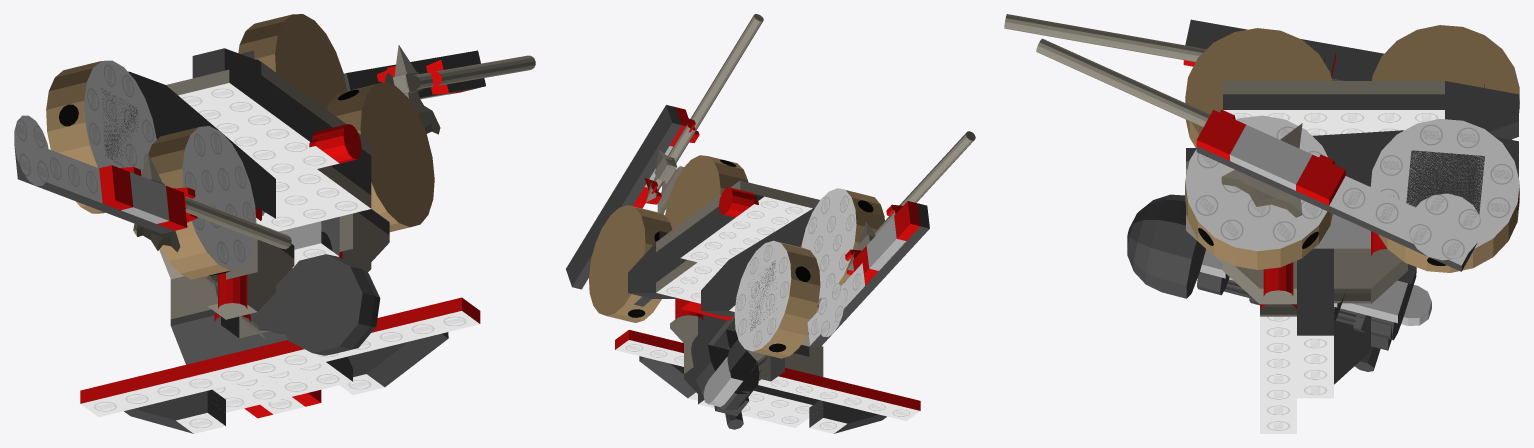
3 views of the same model, side by side, from view 1: azimuth 30°, elevation 25°; view 2: azimuth 150°, elevation 25°; view 3: azimuth 270°, elevation 25° (orthographic). The views are drawn at different scales.
Parts seen in each view (by area): view 1: 095_shape31, 011_shape3, 091_shape29, 080_shape27, 085_shape27, 054_shape14, 064_shape17, 037_shape11, 059_shape14, 088_shape28, 044_shape8, 034_shape8 (+5 smaller); view 2: 095_shape31, 054_shape14, 059_shape14, 011_shape3, 091_shape29, 047_shape11, 085_shape27, 037_shape11, 080_shape27, 073_shape22, 044_shape8, 088_shape28 (+3 smaller); view 3: 095_shape31, 011_shape3, 059_shape14, 080_shape27, 047_shape11, 064_shape17, 085_shape27, 054_shape14, 044_shape8, 091_shape29, 041_shape6, 034_shape8 (+2 smaller).
Boxes of the visible parts, <box> form: 095_shape31: <box>128,48,371,231</box>; 011_shape3: <box>159,209,389,412</box>; 091_shape29: <box>80,297,480,417</box>; 080_shape27: <box>309,82,434,232</box>; 085_shape27: <box>148,126,264,279</box>; 054_shape14: <box>46,60,156,213</box>; 064_shape17: <box>276,254,380,355</box>; 037_shape11: <box>14,145,197,233</box>; 059_shape14: <box>238,14,346,109</box>; 088_shape28: <box>124,332,448,433</box>; 044_shape8: <box>385,45,535,134</box>; 034_shape8: <box>131,153,291,252</box>; 095_shape31: <box>628,180,819,316</box>; 054_shape14: <box>734,240,820,358</box>; 059_shape14: <box>589,205,672,322</box>; 011_shape3: <box>670,299,823,427</box>; 091_shape29: <box>615,330,920,421</box>; 047_shape11: <box>566,105,699,289</box>; 085_shape27: <box>799,188,884,299</box>; 037_shape11: <box>807,201,929,347</box>; 080_shape27: <box>665,155,758,229</box>; 073_shape22: <box>691,317,766,429</box>; 044_shape8: <box>646,14,763,214</box>; 088_shape28: <box>639,356,886,433</box>; 095_shape31: <box>1223,81,1518,186</box>; 011_shape3: <box>1186,148,1407,398</box>; 059_shape14: <box>1370,119,1519,272</box>; 080_shape27: <box>1185,115,1332,269</box>; 047_shape11: <box>1196,109,1477,271</box>; 064_shape17: <box>1127,194,1431,325</box>; 085_shape27: <box>1185,28,1331,147</box>; 054_shape14: <box>1372,25,1519,139</box>; 044_shape8: <box>1036,38,1324,217</box>; 091_shape29: <box>1260,316,1296,433</box>; 041_shape6: <box>1408,193,1481,260</box>; 034_shape8: <box>1004,14,1331,78</box>.
Size of the model in its own units: 9.6 by 9.67 by 11.15.
Materials: 12 (4 with a texture image).
